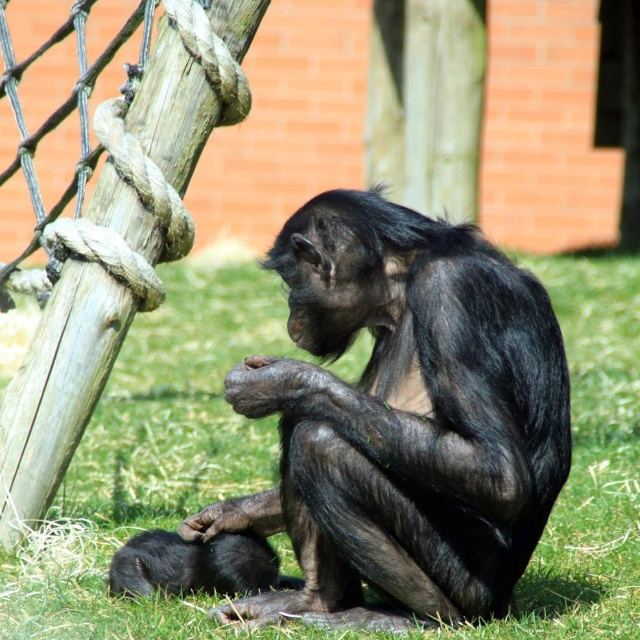Monkey: (178, 186, 572, 619)
